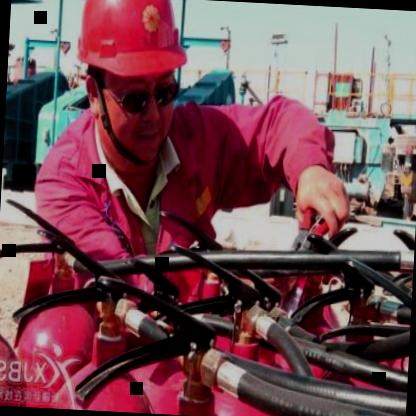helmet: (61, 0, 195, 166)
